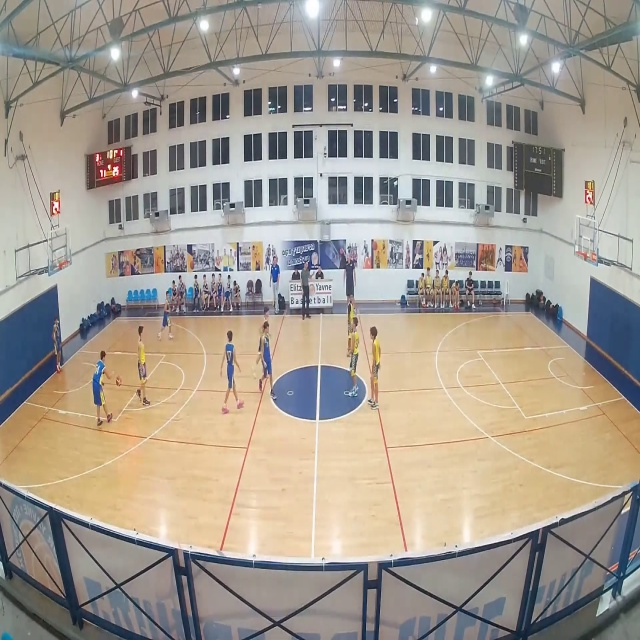Basketball: (115, 376, 122, 386)
